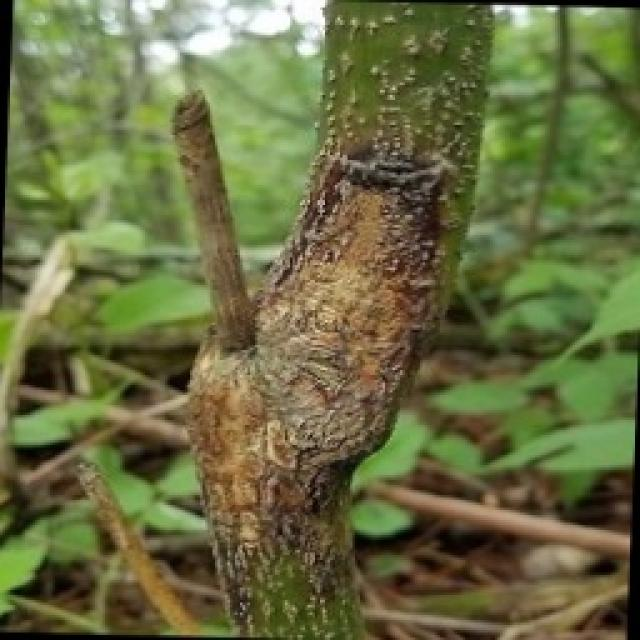Golden_canker: (171, 0, 535, 630)
